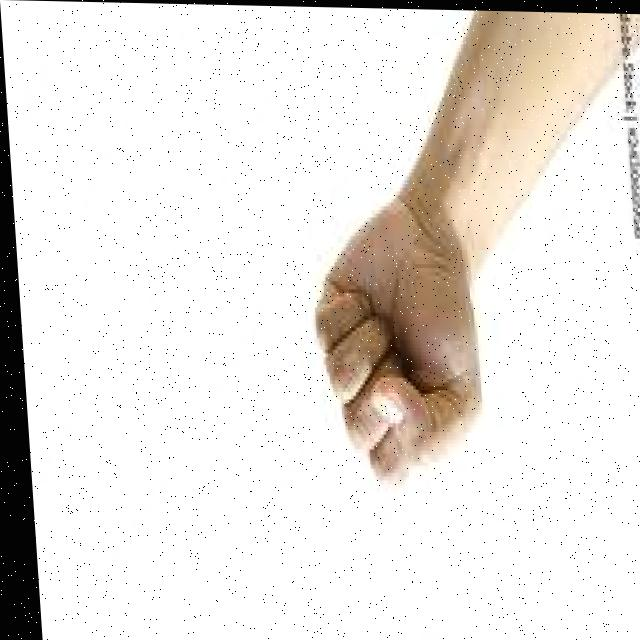rock: (266, 133, 505, 520)
